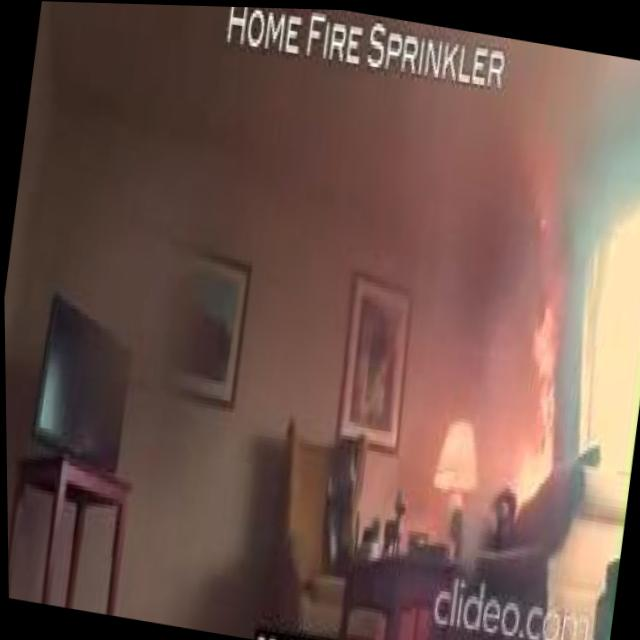fire: (484, 169, 593, 501)
